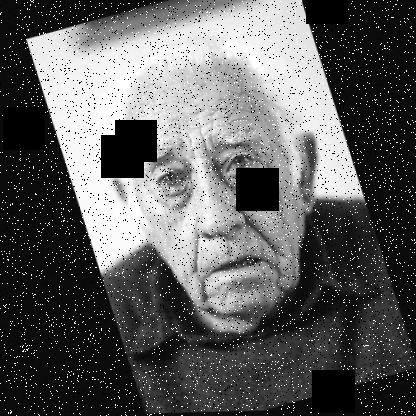Male: (78, 35, 361, 342)
